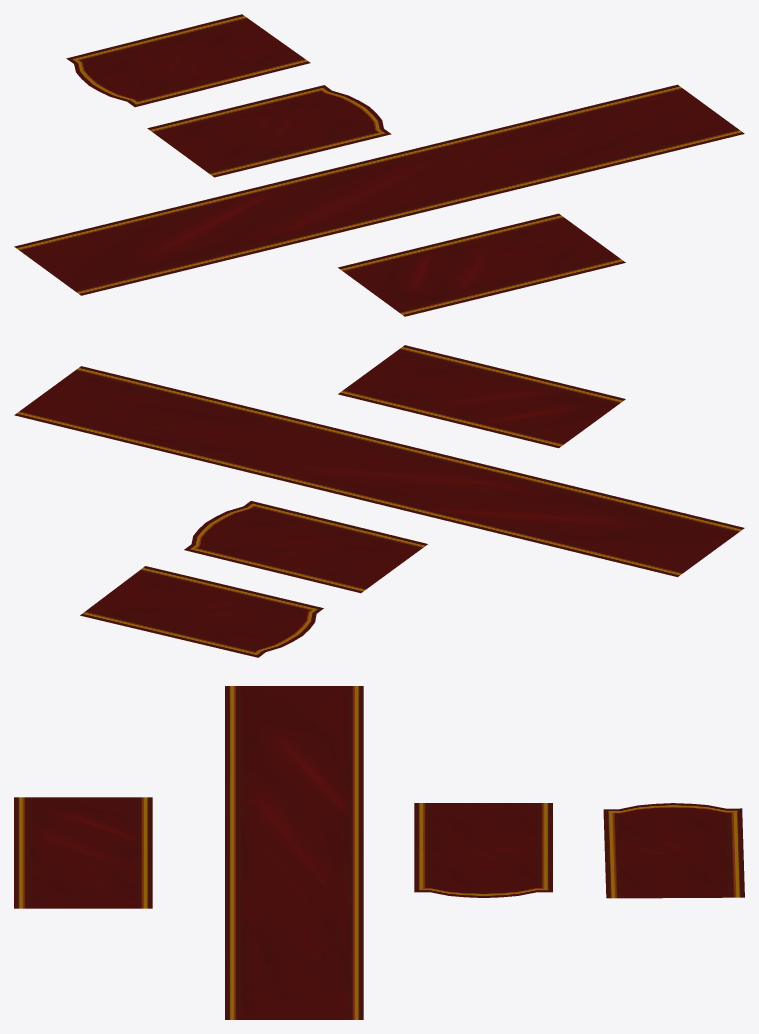
The model's file is Red_Carpet.glb.
3 renders of one model, top to bottom at view 1: azimuth 30°, elevation 25°; view 2: azimuth 150°, elevation 25°; view 3: azimuth 270°, elevation 25°, orthographic. The views are drawn at different scales.
Parts seen in each view (by area): view 1: carpet2, carpet1, carpet3, carpet4; view 2: carpet2, carpet1, carpet3, carpet4; view 3: carpet2, carpet1, carpet4, carpet3.
Part boxes in pixels (x1,y1,x2,y2): carpet2: (14, 84, 744, 295); carpet1: (338, 213, 625, 316); carpet3: (147, 85, 391, 177); carpet4: (66, 14, 310, 107); carpet2: (14, 366, 744, 577); carpet1: (338, 345, 625, 448); carpet3: (184, 501, 427, 593); carpet4: (80, 566, 323, 657); carpet2: (225, 686, 363, 1019); carpet1: (14, 797, 152, 908); carpet4: (603, 803, 744, 898); carpet3: (414, 803, 552, 897).
Bounding box in the file's own units: 24 × 0.13 × 22.21.
Materials: 1 (1 with a texture image).
